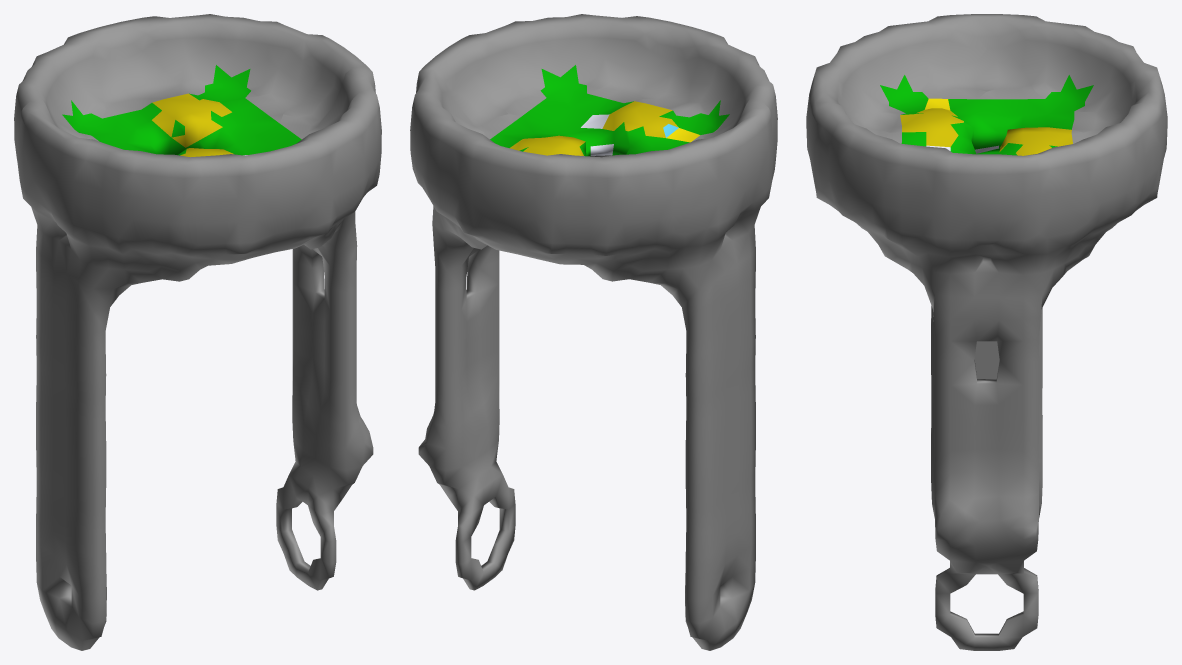
File: link2_remeshed.dae
3 renders of one model, left to right at view 1: azimuth 30°, elevation 25°; view 2: azimuth 150°, elevation 25°; view 3: azimuth 270°, elevation 25°, orthographic.
Visible parts, largest first — view 1: node0; view 2: node0; view 3: node0.
Boxes of the visible parts, x1=… form: node0: x1=14, y1=14, x2=381, y2=650; node0: x1=410, y1=14, x2=777, y2=650; node0: x1=806, y1=14, x2=1167, y2=650.
Size of the model in its own units: 0.0447 by 0.0447 by 0.07.
